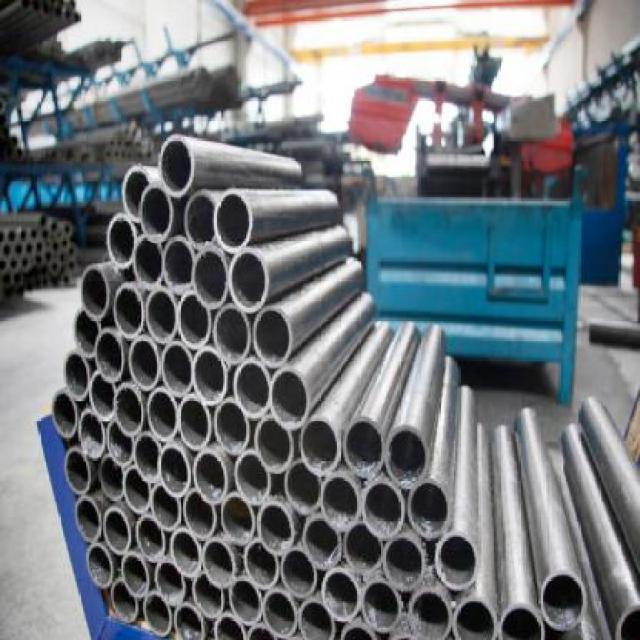pipe: (385, 425, 430, 490), (540, 571, 588, 631), (408, 477, 452, 538), (228, 249, 269, 314), (362, 479, 406, 539), (435, 529, 478, 590), (343, 416, 384, 479), (269, 366, 309, 430), (214, 189, 253, 254), (254, 305, 293, 368), (383, 536, 426, 593), (320, 472, 362, 530), (299, 416, 340, 475), (254, 414, 294, 474), (212, 303, 250, 364), (159, 136, 195, 199), (193, 246, 229, 309), (234, 359, 271, 420), (303, 514, 343, 570), (362, 579, 403, 633), (408, 588, 452, 638), (138, 185, 173, 245), (193, 348, 229, 406), (343, 522, 382, 575), (322, 568, 361, 621), (214, 399, 250, 456), (185, 191, 219, 251), (236, 449, 273, 504), (285, 459, 322, 514), (179, 291, 213, 350), (257, 500, 294, 554), (453, 595, 499, 638), (177, 394, 212, 450), (194, 451, 230, 505), (280, 546, 317, 598), (220, 492, 255, 546), (162, 340, 195, 397), (243, 538, 279, 590), (163, 237, 194, 296), (146, 286, 178, 343), (183, 488, 217, 540), (114, 283, 145, 340), (497, 603, 546, 639), (158, 443, 190, 498), (263, 588, 298, 638), (129, 336, 160, 392), (203, 537, 237, 588), (148, 388, 180, 442), (122, 165, 151, 224), (80, 265, 110, 321), (94, 328, 124, 384), (229, 577, 263, 626), (108, 213, 137, 269), (297, 597, 336, 638), (114, 383, 144, 436), (134, 234, 163, 288), (151, 482, 182, 532), (169, 528, 200, 578), (192, 573, 224, 619), (74, 306, 102, 358), (136, 514, 166, 562), (134, 432, 162, 483), (123, 465, 152, 514), (89, 371, 116, 422), (63, 351, 90, 401), (79, 409, 106, 459), (143, 591, 172, 637), (156, 560, 186, 604), (108, 420, 136, 467), (103, 506, 130, 554), (122, 552, 150, 598), (52, 390, 78, 439), (65, 446, 91, 494), (86, 543, 113, 589), (111, 578, 138, 624), (76, 496, 102, 543), (174, 600, 206, 638), (99, 454, 125, 500), (214, 613, 246, 640)
